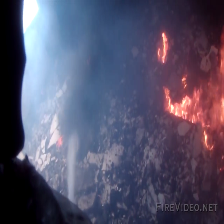fire_h: (163, 87, 205, 127)
fire_l: (162, 31, 168, 63), (204, 131, 208, 149), (182, 75, 187, 89), (157, 48, 160, 58), (220, 58, 223, 68), (221, 98, 224, 106), (209, 145, 213, 150)
